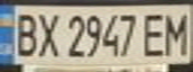2: (63, 10, 87, 58)
4: (100, 10, 124, 57)
7: (118, 10, 142, 58)
9: (81, 10, 103, 58)
B: (9, 9, 42, 57)
E: (139, 9, 172, 57)
M: (160, 8, 193, 56)
X: (33, 8, 63, 59)
